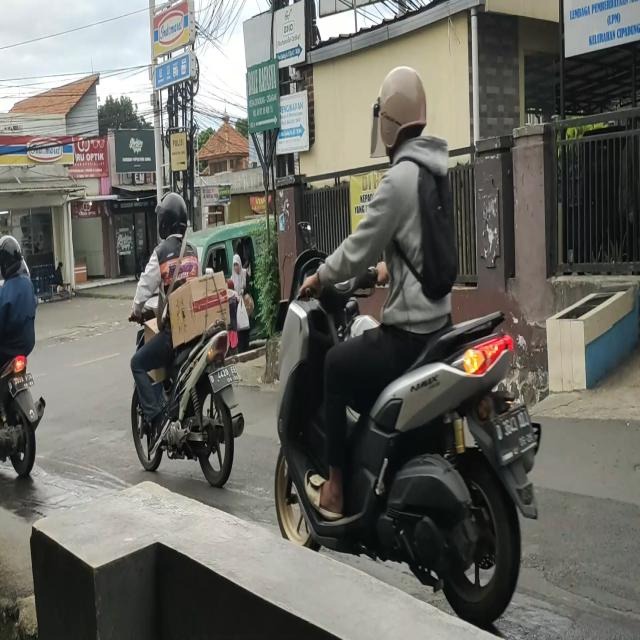helmet: (377, 68, 431, 150), (159, 200, 189, 238), (0, 241, 23, 276)
